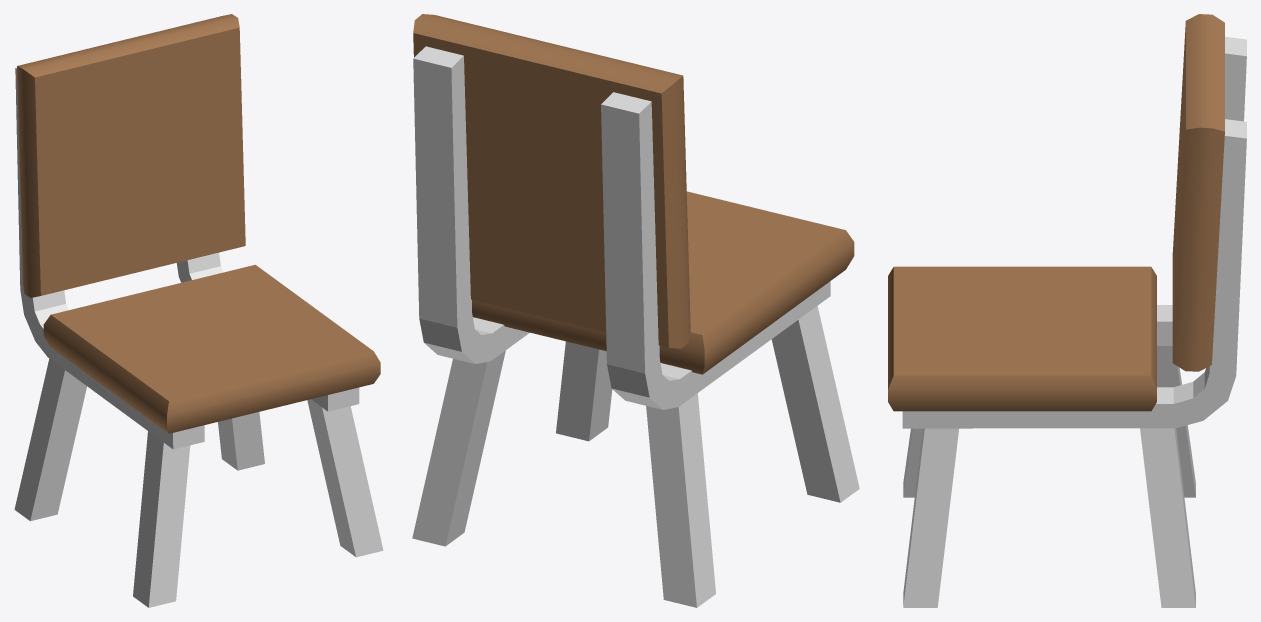
The model's file is Chair.fbx.
The picture shows the model from 3 angles, left to right: view 1: azimuth 30°, elevation 25°; view 2: azimuth 150°, elevation 25°; view 3: azimuth 270°, elevation 25°; orthographic projection. The views are drawn at different scales.
Visible parts, largest first — view 1: Chair; view 2: Chair; view 3: Chair.
Boxes of the visible parts, left/top/right/bottom form: Chair: left=14, top=14, right=383, bottom=607; Chair: left=412, top=14, right=859, bottom=607; Chair: left=888, top=14, right=1246, bottom=607.
Bounding box in the file's own units: 157 × 279 × 191.
